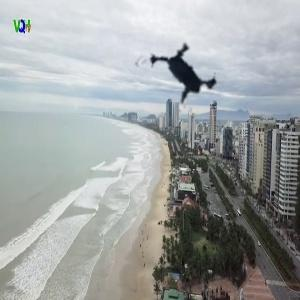drone: (130, 26, 235, 131)
